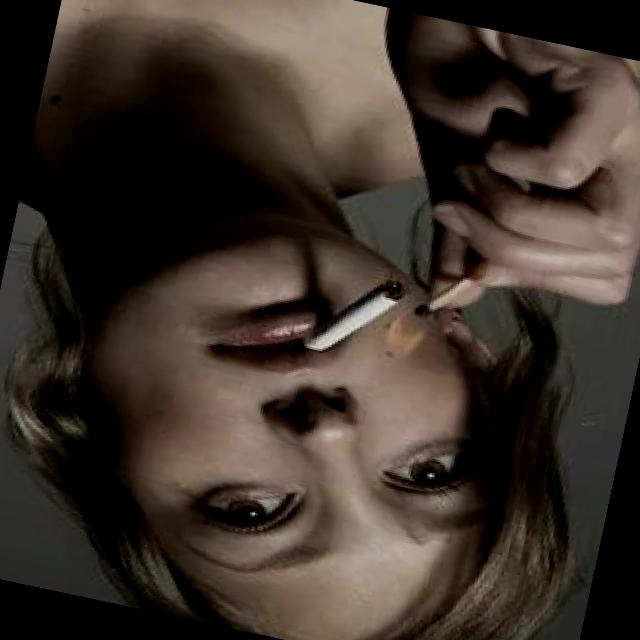cigarette: (289, 256, 411, 372)
